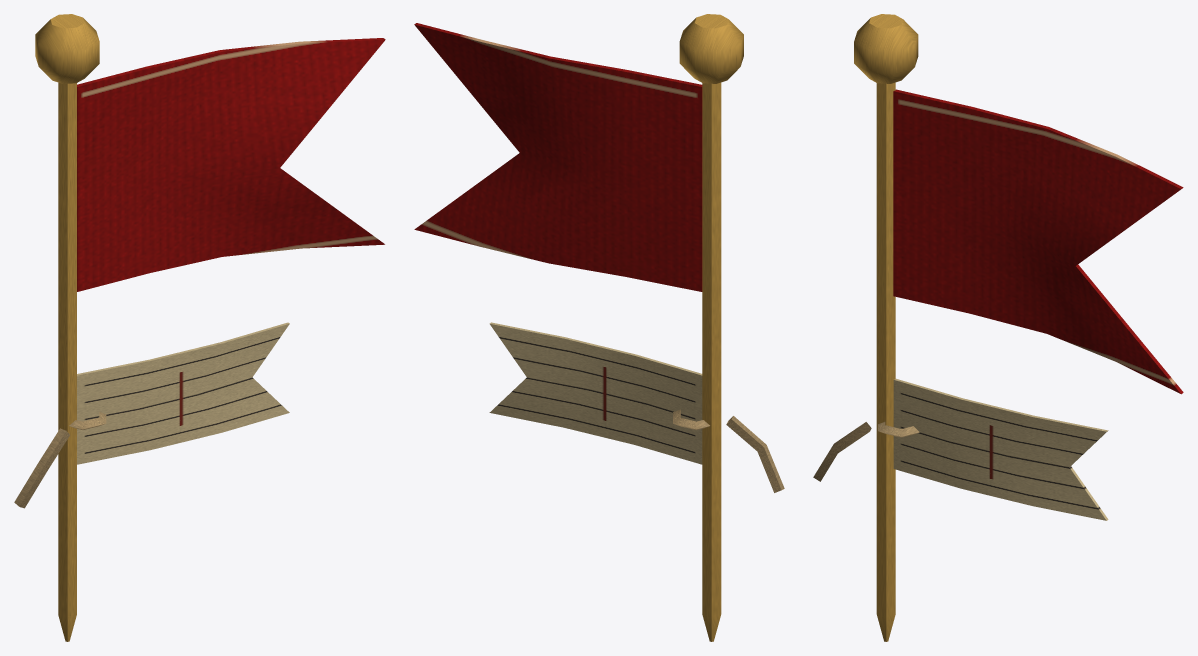
Rendered from pennant.glb.
The picture shows the model from 3 angles, left to right: view 1: azimuth 30°, elevation 25°; view 2: azimuth 150°, elevation 25°; view 3: azimuth 330°, elevation 25°; orthographic projection.
Parts seen in each view (by area): view 1: pennant; view 2: pennant; view 3: pennant.
Part boxes in pixels (x1,y1,x2,y2): pennant: [14, 14, 385, 641]; pennant: [414, 14, 784, 641]; pennant: [813, 14, 1183, 641].
Bounding box in the file's own units: 0.0216 × 0.0348 × 0.00338.
1 material, 1 textured.
